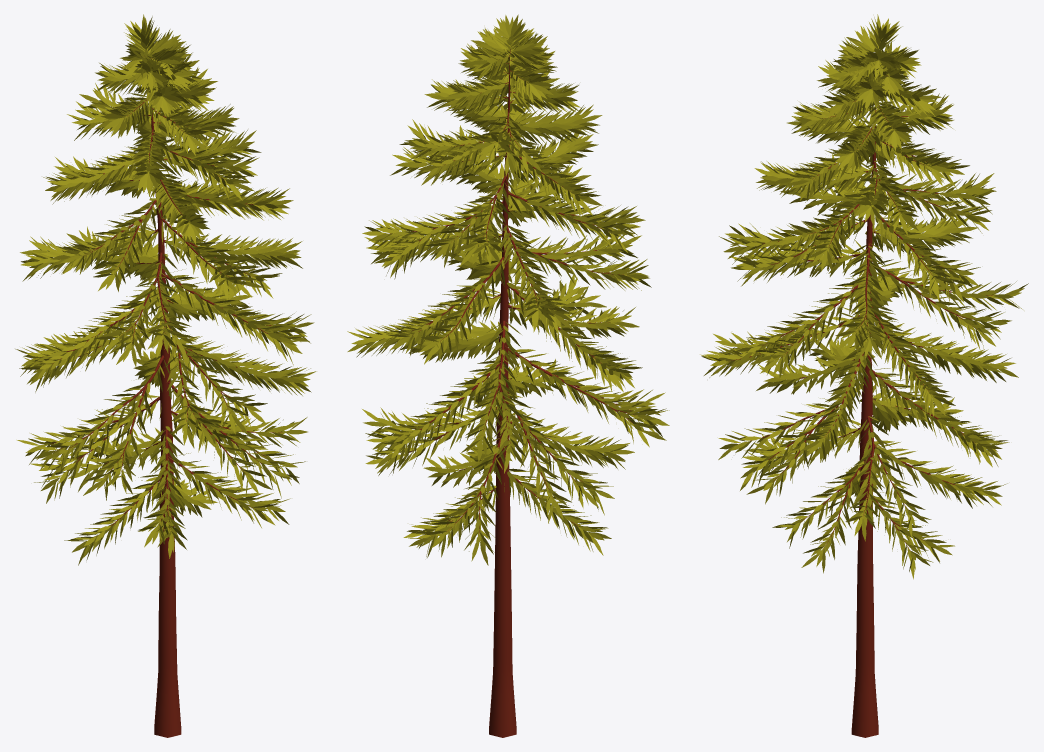
Rendered from tree11.fbx.
3 renders of one model, left to right at view 1: azimuth 30°, elevation 25°; view 2: azimuth 150°, elevation 25°; view 3: azimuth 270°, elevation 25°, orthographic. The views are drawn at different scales.
Parts seen in each view (by area): view 1: leaves.002; view 2: leaves.002; view 3: leaves.002.
Boxes of the visible parts, bbox=[...] form: leaves.002: bbox=[15, 14, 316, 737]; leaves.002: bbox=[347, 14, 669, 737]; leaves.002: bbox=[700, 14, 1028, 737].
Size of the model in its own units: 386 by 911 by 385.
